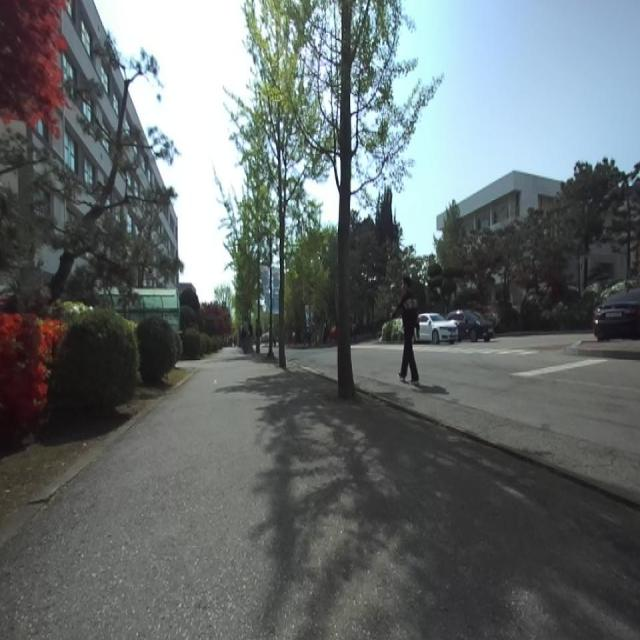sidewalk: (0, 348, 640, 638)
